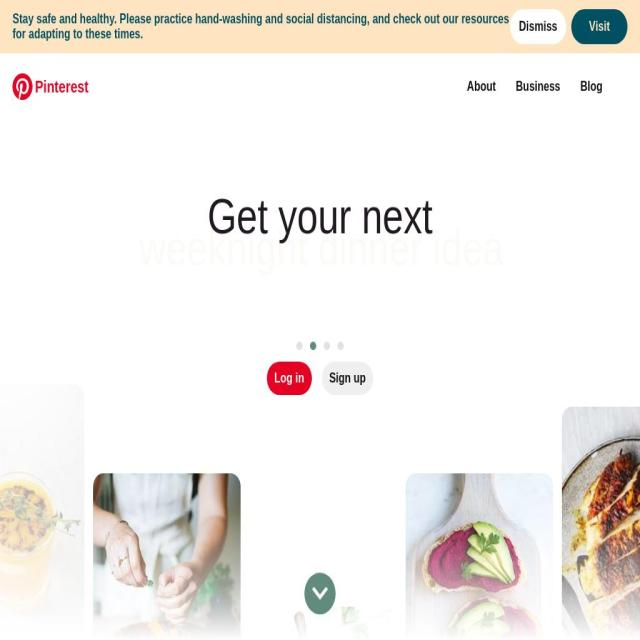button: (12, 12, 510, 42), (566, 9, 628, 44), (510, 9, 566, 44), (572, 9, 628, 44), (321, 362, 374, 396), (266, 362, 312, 396), (304, 576, 336, 618), (516, 79, 560, 94), (467, 79, 496, 94), (580, 79, 603, 94)
heading: (35, 76, 89, 96)
image: (0, 511, 640, 640), (93, 472, 241, 640), (406, 472, 553, 640), (0, 406, 84, 640), (562, 406, 640, 640), (249, 606, 397, 640), (12, 73, 32, 100), (312, 586, 328, 608)
text: (138, 251, 504, 309), (12, 12, 510, 40), (207, 187, 433, 246), (516, 79, 560, 94), (329, 371, 366, 387), (274, 371, 304, 387), (467, 79, 496, 94), (580, 79, 603, 94)
